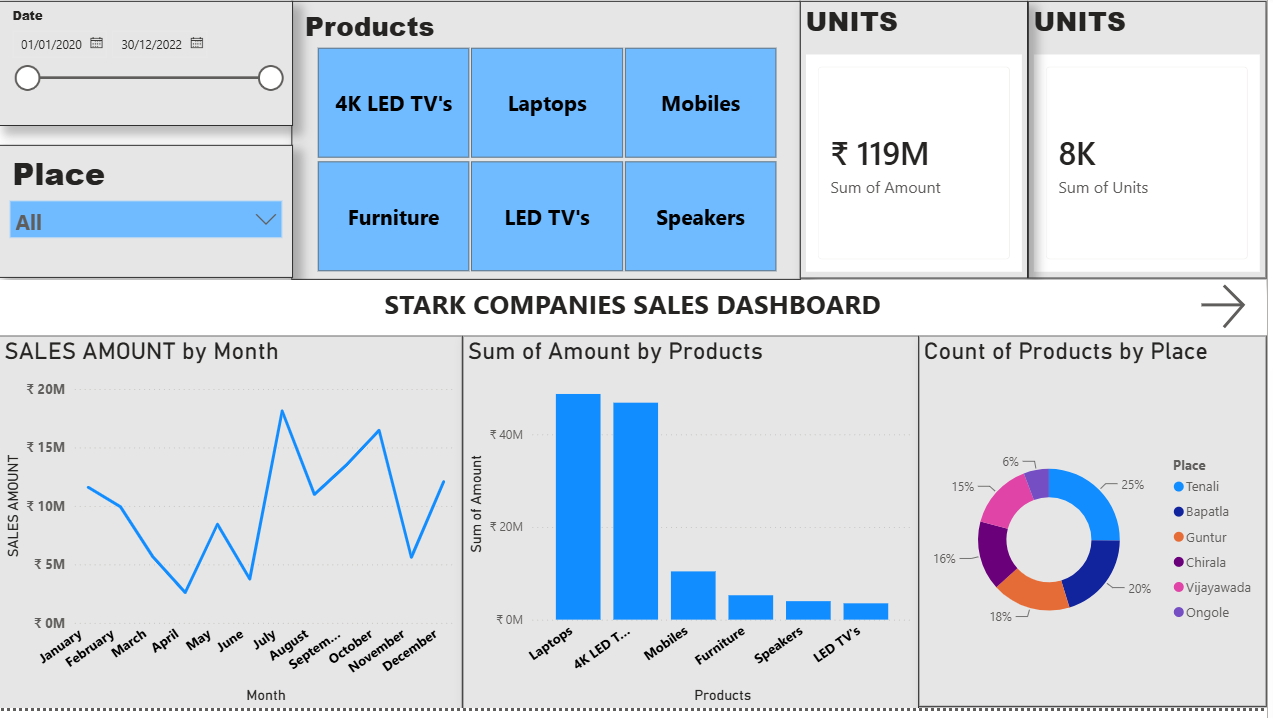

What the dashboard file says about the page in this screenshot:
{"tool":"powerbi","page":{"name":"SALES","canvas":[1280,720],"ordinal":0},"visuals":[{"type":"slicer","fields":{"Values":["data.Products"]},"box":[295.8,5.5,514,281],"z":0},{"type":"slicer","fields":{"Values":["data.Place"]},"box":[0,151.6,296.7,134.2],"z":1000},{"type":"slicer","fields":{"Values":["data.Date"]},"box":[0,5.5,296.4,126.3],"z":2000},{"type":"cardVisual","title":"UNITS","fields":{"Data":["Sum(data.Units)"]},"box":[1038.7,6.1,240.8,280.1],"z":3000},{"type":"lineChart","fields":{"Category":["data.Date.Variation.Date Hierarchy.Month"],"Y":["Sum(data.Amount)"]},"box":[0,343.1,468,377.4],"z":4000},{"type":"columnChart","fields":{"Y":["Sum(data.Amount)"],"Category":["data.Products"]},"box":[468,344.5,460.4,377.2],"z":5000},{"type":"donutChart","fields":{"Category":["data.Place"],"Y":["CountNonNull(data.Products)"]},"box":[927.7,344.5,351.3,374.6],"z":6000},{"type":"cardVisual","title":"UNITS","fields":{"Data":["Sum(data.Amount)"]},"box":[808.6,6.1,230.2,280.1],"z":7000},{"type":"textbox","box":[0,287.7,1279.5,56],"z":8000},{"type":"actionButton","box":[1206.7,286.1,72.7,56.3],"z":9000}]}

Visuals, with their boxes in screenshot pixels (x1, y1, x2, y2), scaled from the page's 1280x720 canvas onto the 1273x718 screenshot:
slicer - data.Products: 294/5/805/286
slicer - data.Place: 0/151/295/285
slicer - data.Date: 0/5/295/131
"UNITS" cardVisual: 1033/6/1272/285
lineChart - data.Date.Variation.Date Hierarchy.Month x Sum(data.Amount): 0/342/465/717
columnChart - Sum(data.Amount) x data.Products: 465/344/923/717
donutChart - data.Place x CountNonNull(data.Products): 923/344/1272/717
"UNITS" cardVisual: 804/6/1033/285
textbox: 0/287/1272/343
actionButton: 1200/285/1272/341
